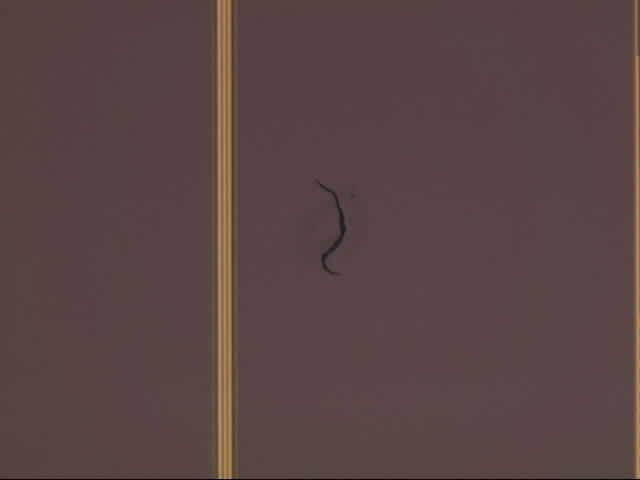PIQ PARTICLE: (313, 177, 352, 283)
